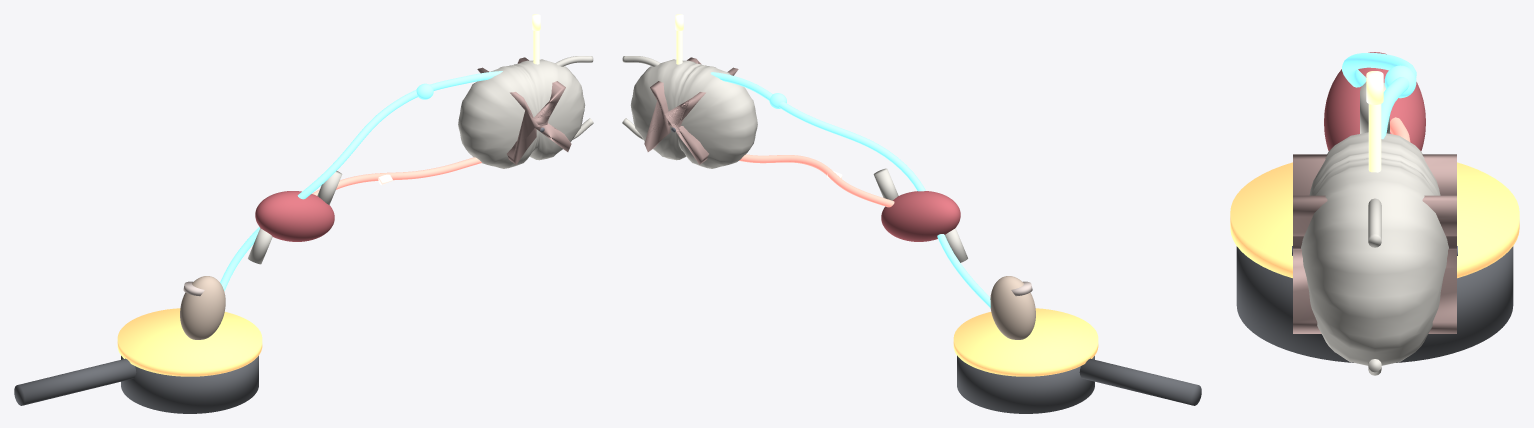
File: reflex-arc.glb
3 renders of one model, left to right at view 1: azimuth 30°, elevation 25°; view 2: azimuth 150°, elevation 25°; view 3: azimuth 270°, elevation 25°, orthographic. The views are drawn at different scales.
Parts seen in each view (by area): view 1: Full_Spinal_Cord_White_Matter, Full_Pan_Hot_Rim, Full_Pan_Body, Full_Muscle_Belly, Full_Pan_Handle, Full_Sensory_Nerve_Tract, Full_Finger_Receptor, Full_Spinal_Cord_Gray_Matter, Full_Motor_Nerve_Tract; view 2: Full_Spinal_Cord_White_Matter, Full_Pan_Hot_Rim, Full_Pan_Body, Full_Muscle_Belly, Full_Pan_Handle, Full_Sensory_Nerve_Tract, Full_Spinal_Cord_Gray_Matter, Full_Finger_Receptor, Full_Motor_Nerve_Tract; view 3: Full_Spinal_Cord_White_Matter, Full_Pan_Hot_Rim, Full_Pan_Body, Full_Spinal_Cord_Gray_Matter, Full_Muscle_Belly, Full_Sensory_Nerve_Tract, Full_Message_To_Brain_Tract, Full_Dorsal_Root, Full_Brain_Arrow, Full_Dorsal_Root_Ganglion, Full_Tendon_Proximal, Full_Motor_Nerve_Tract.
Boxes of the visible parts, left/top/right/bottom form: Full_Spinal_Cord_White_Matter: left=458, top=59, right=585, bottom=168; Full_Pan_Hot_Rim: left=117, top=308, right=262, bottom=376; Full_Pan_Body: left=121, top=355, right=258, bottom=413; Full_Muscle_Belly: left=255, top=191, right=334, bottom=241; Full_Pan_Handle: left=14, top=358, right=136, bottom=405; Full_Sensory_Nerve_Tract: left=220, top=71, right=502, bottom=290; Full_Finger_Receptor: left=180, top=276, right=225, bottom=339; Full_Spinal_Cord_Gray_Matter: left=477, top=57, right=571, bottom=164; Full_Motor_Nerve_Tract: left=312, top=157, right=481, bottom=195; Full_Spinal_Cord_White_Matter: left=630, top=59, right=757, bottom=168; Full_Pan_Hot_Rim: left=953, top=308, right=1098, bottom=376; Full_Pan_Body: left=957, top=355, right=1094, bottom=413; Full_Muscle_Belly: left=881, top=191, right=960, bottom=241; Full_Pan_Handle: left=1079, top=358, right=1201, bottom=405; Full_Sensory_Nerve_Tract: left=710, top=72, right=990, bottom=307; Full_Spinal_Cord_Gray_Matter: left=644, top=57, right=738, bottom=164; Full_Finger_Receptor: left=990, top=276, right=1035, bottom=339; Full_Motor_Nerve_Tract: left=739, top=154, right=894, bottom=207; Full_Spinal_Cord_White_Matter: left=1301, top=132, right=1448, bottom=365; Full_Pan_Hot_Rim: left=1230, top=162, right=1519, bottom=278; Full_Pan_Body: left=1236, top=246, right=1513, bottom=362; Full_Spinal_Cord_Gray_Matter: left=1293, top=154, right=1456, bottom=333; Full_Muscle_Belly: left=1324, top=52, right=1425, bottom=150; Full_Sensory_Nerve_Tract: left=1342, top=53, right=1416, bottom=139; Full_Message_To_Brain_Tract: left=1368, top=104, right=1381, bottom=172; Full_Dorsal_Root: left=1368, top=198, right=1381, bottom=247; Full_Brain_Arrow: left=1366, top=71, right=1383, bottom=104; Full_Dorsal_Root_Ganglion: left=1384, top=65, right=1416, bottom=98; Full_Tendon_Proximal: left=1360, top=83, right=1389, bottom=133; Full_Motor_Nerve_Tract: left=1390, top=117, right=1410, bottom=141.
Bounding box in the file's own units: 0.3112 × 0.1475 × 0.068.
